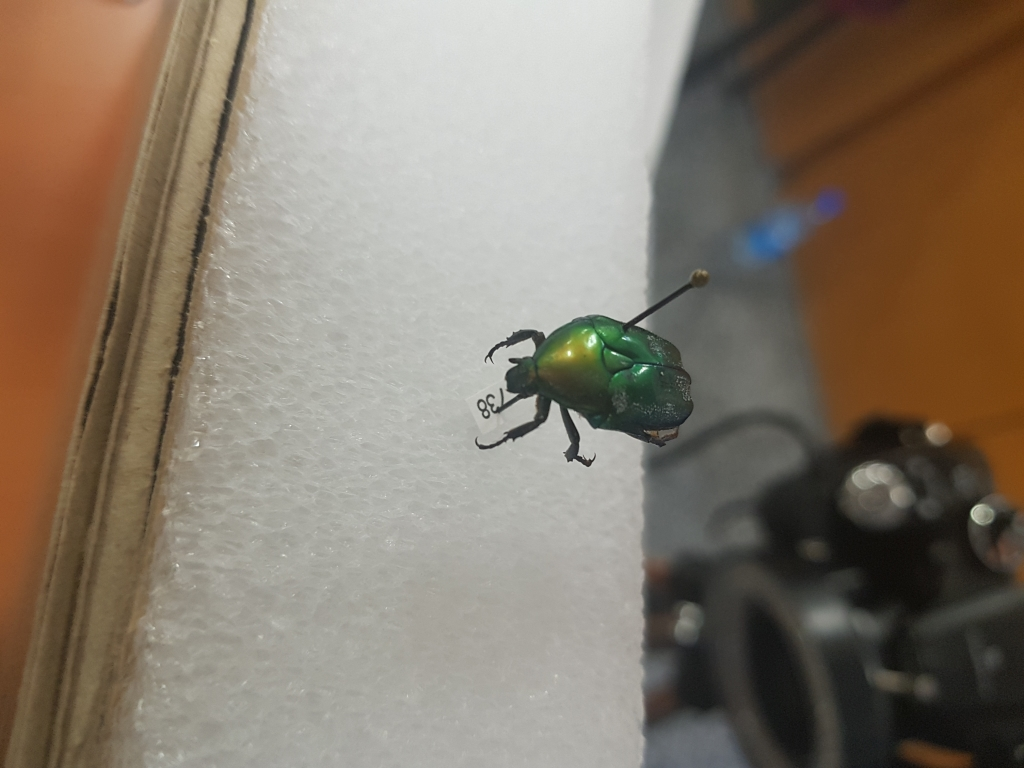Protaetia_cuprea_ignicollis: (455, 305, 701, 475)
